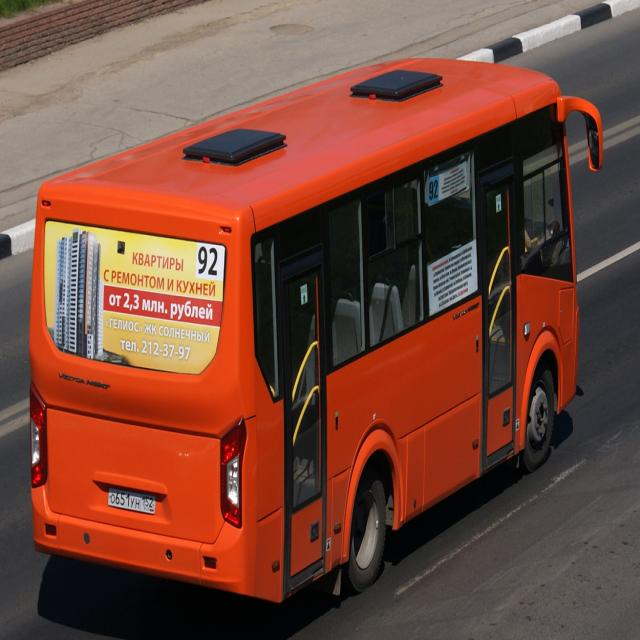number-of-bus: (197, 247, 220, 277), (429, 178, 440, 203)
